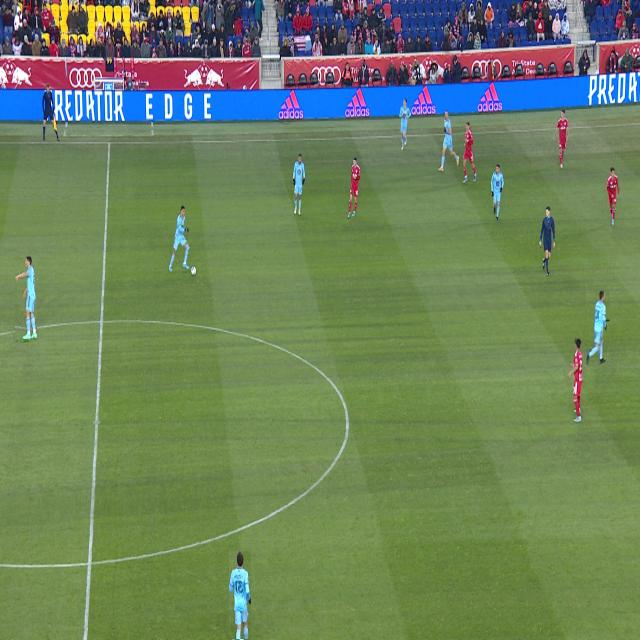football: (190, 266, 196, 275)
player: (229, 551, 251, 640), (15, 257, 37, 340), (586, 290, 610, 365), (169, 205, 190, 271), (438, 110, 459, 171), (568, 338, 583, 422), (553, 110, 569, 170), (462, 121, 477, 183), (491, 164, 504, 222), (293, 153, 305, 215), (348, 157, 360, 218), (607, 168, 619, 226), (399, 98, 411, 150)
referee: (539, 206, 555, 276)
